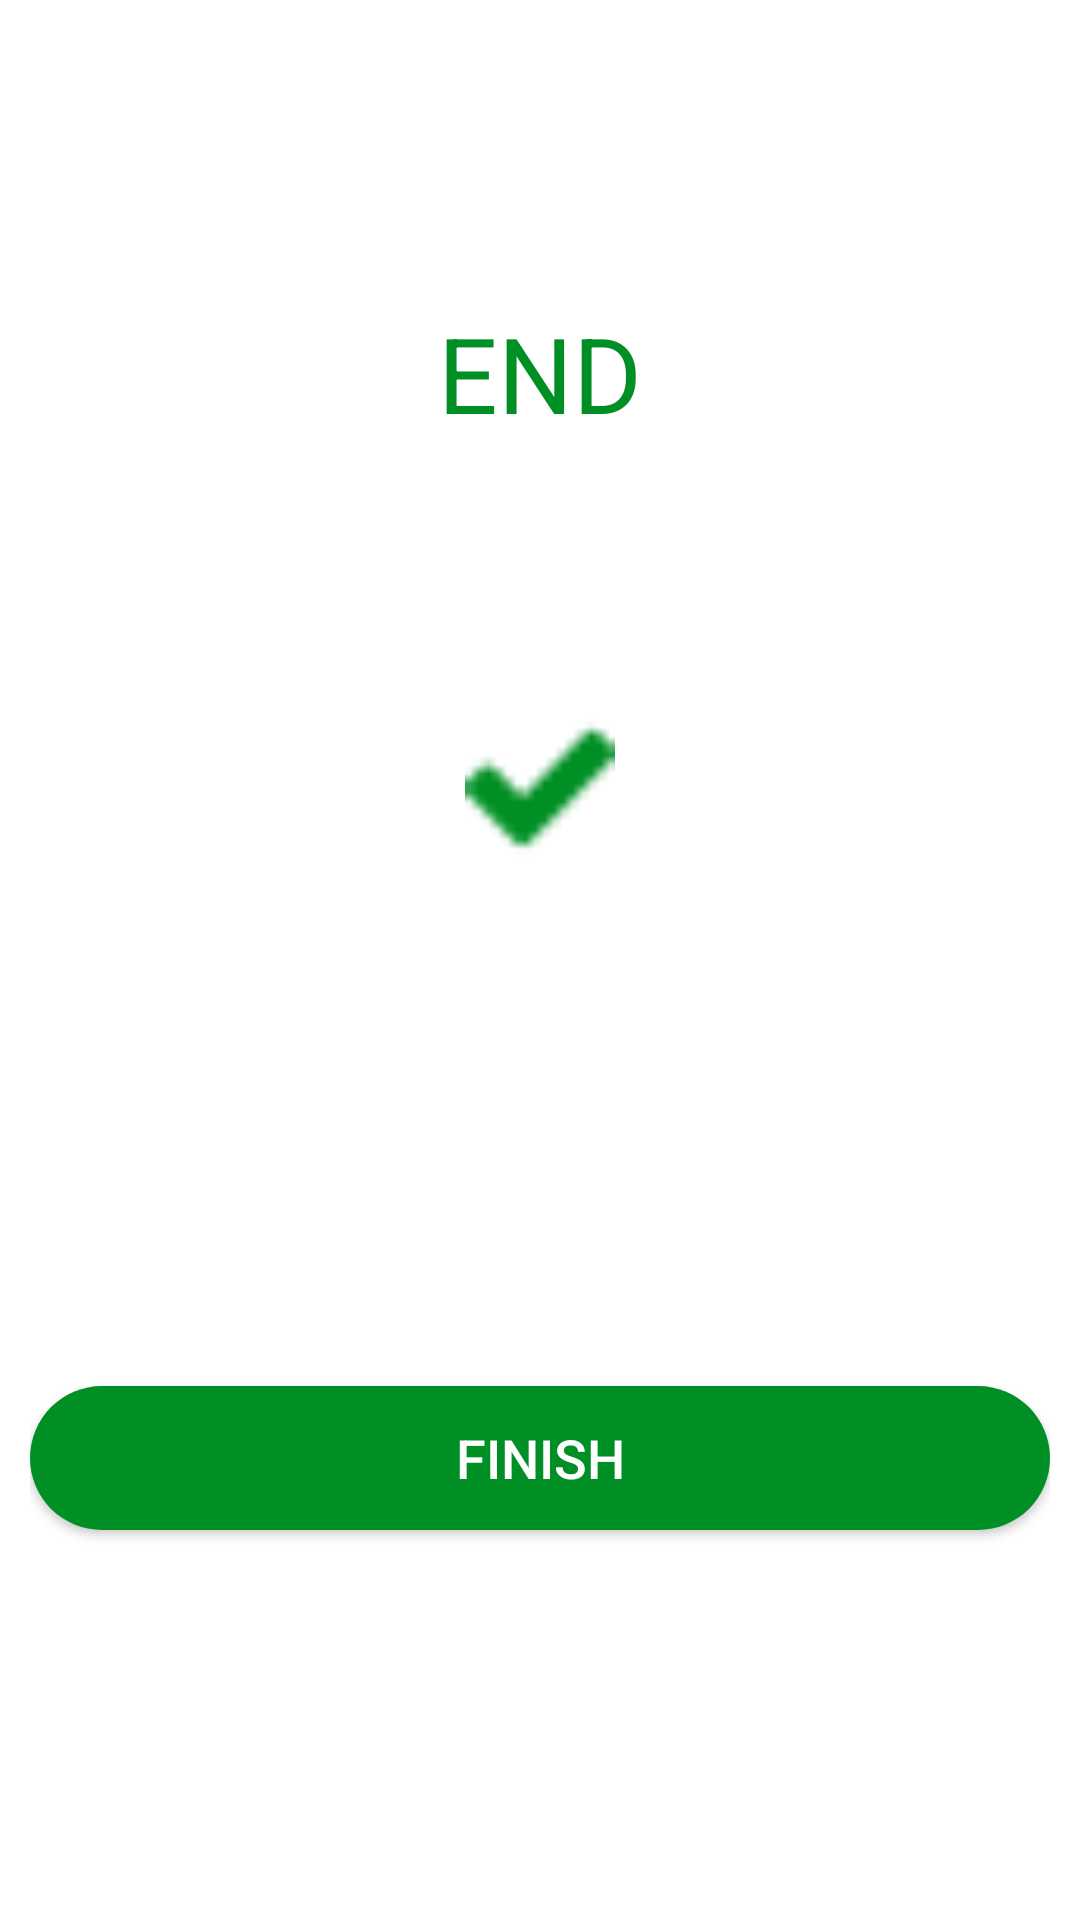

Named icons in this screenshot (1080 x 1920) and their centers, point (x, y):
correct symbol: point (540, 787)
